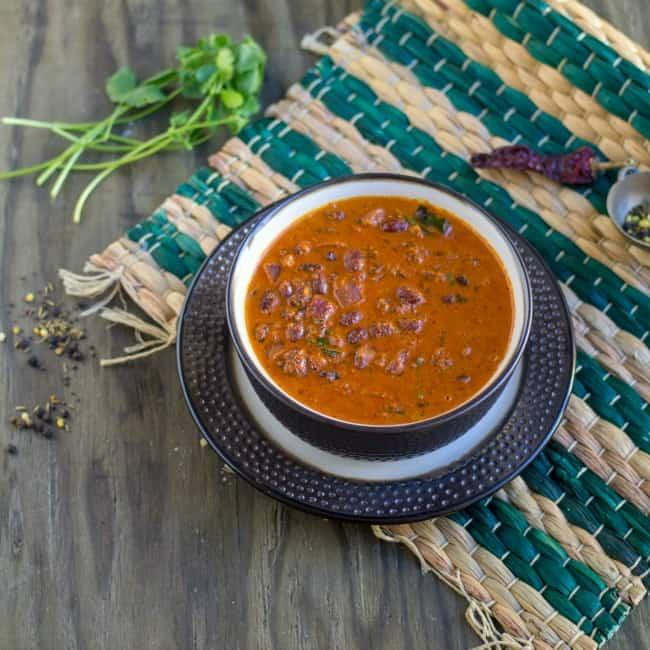RajmaCurry: (245, 198, 514, 424)
